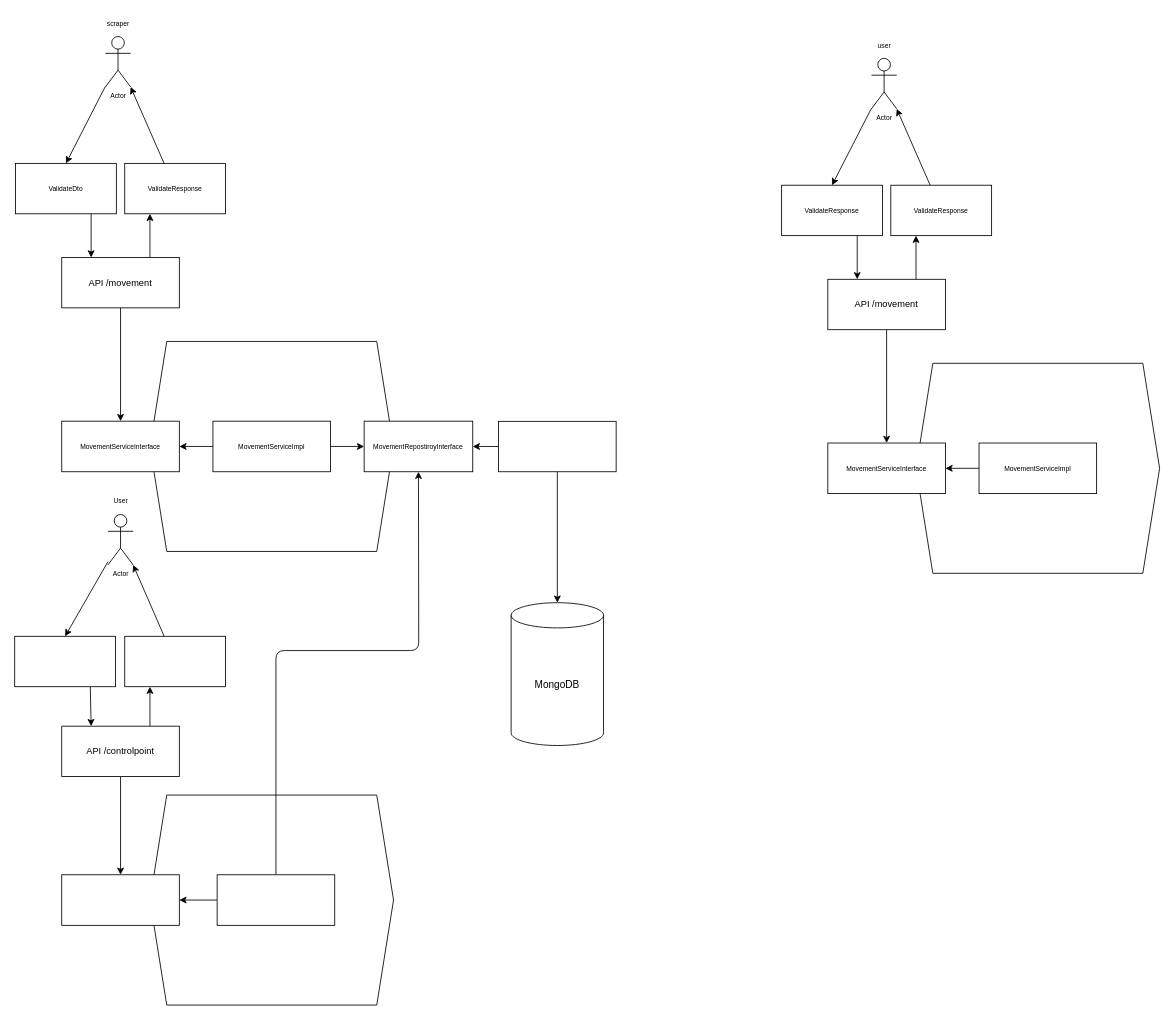
Image size: 1174x1020. Some labels were removed from this diagram. The shapes that lost their labels are listed below. From the top down, each one's box as (x1, y1, x2, y2) in pixels, then its label:
(498, 421, 616, 472): MovementRepostiroyImplementation
(14, 635, 116, 687): ControlPointDto
(124, 635, 226, 687): ControlPointResponse
(61, 874, 179, 925): ControlPointServiceInterface
(216, 874, 335, 925): ControlPointServiceImpl
